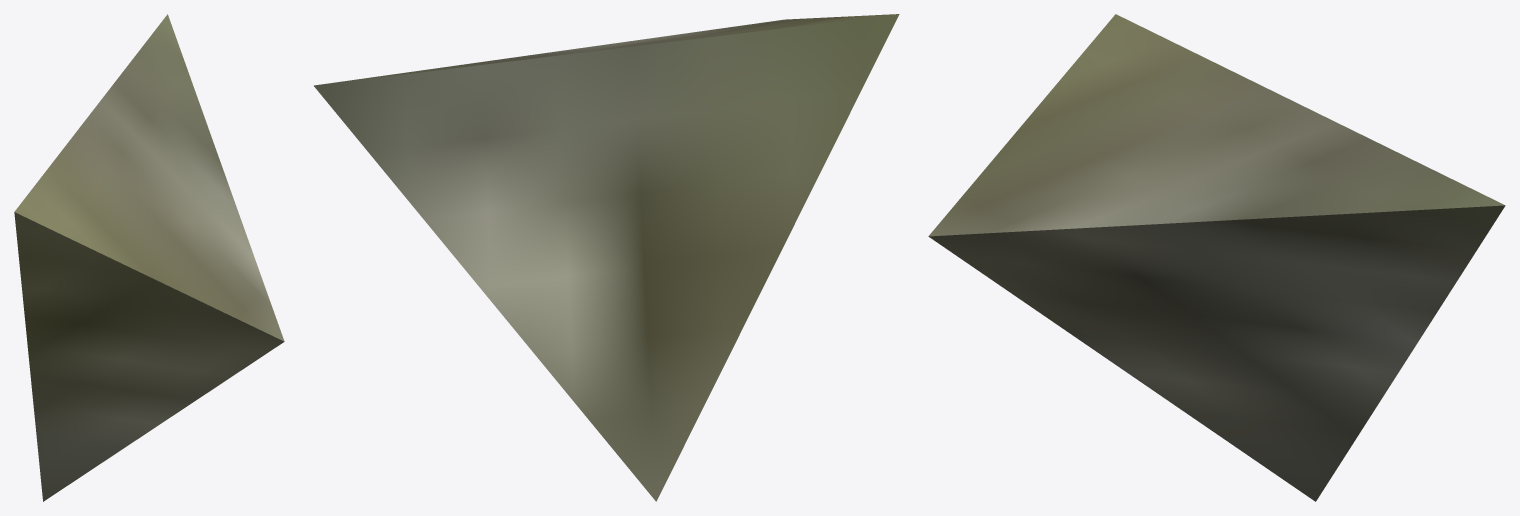
3 renders of one model, left to right at view 1: azimuth 30°, elevation 25°; view 2: azimuth 150°, elevation 25°; view 3: azimuth 270°, elevation 25°, orthographic. The views are drawn at different scales.
Bounding box in the file's own units: 0.1273 × 0.1419 × 0.1752.
1 material, 1 textured.
